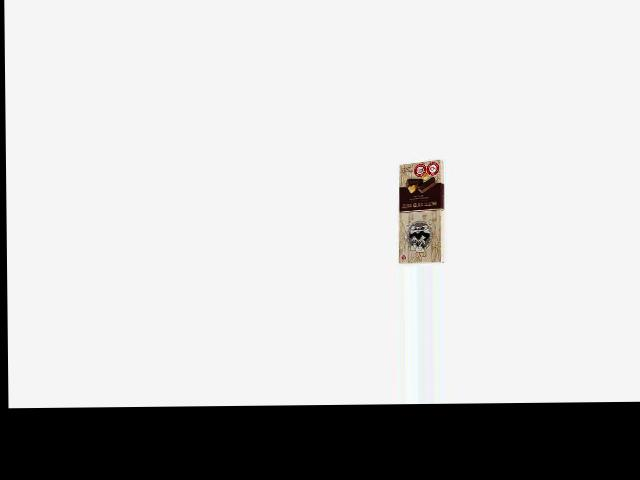chocolate: (396, 157, 453, 263)
